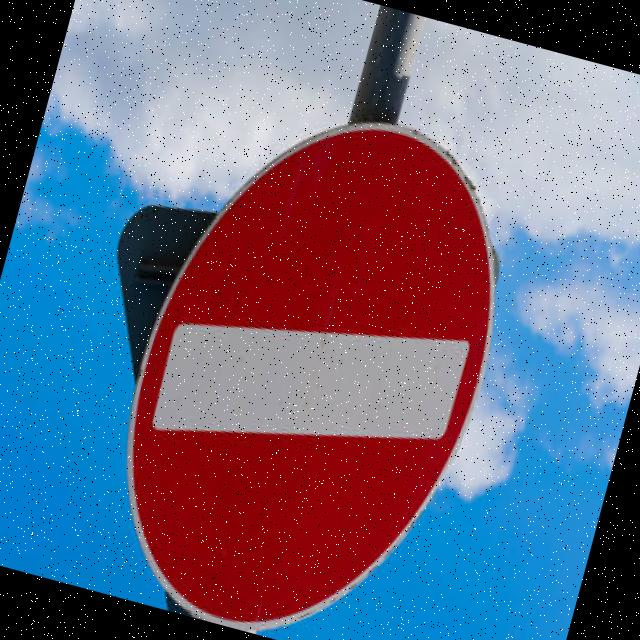do_not_enter: (44, 25, 571, 640)
